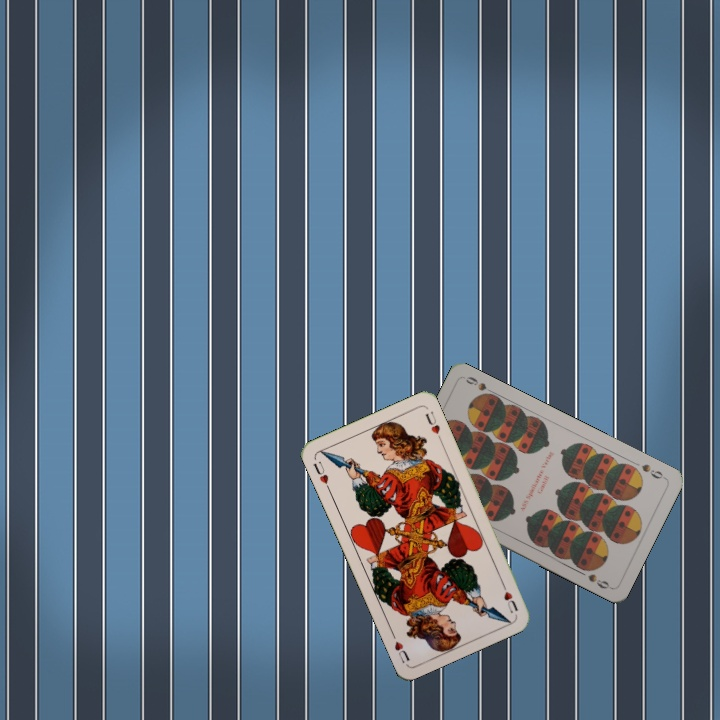HU: (497, 578, 520, 616), (309, 457, 333, 493)
S9: (637, 460, 668, 482)
